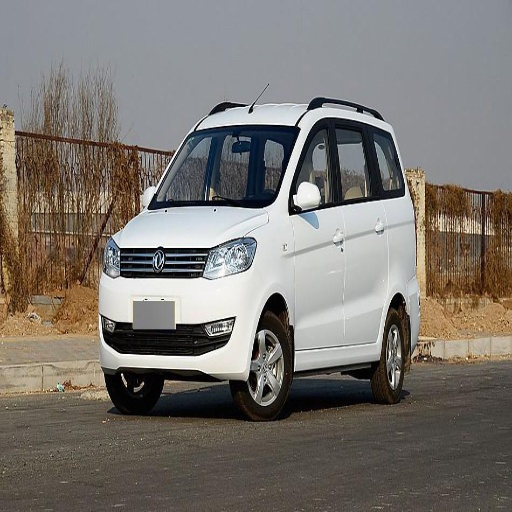front_bumper: (99, 239, 265, 377)
front_glass: (150, 126, 299, 208)
front_left_door: (290, 116, 356, 352)
